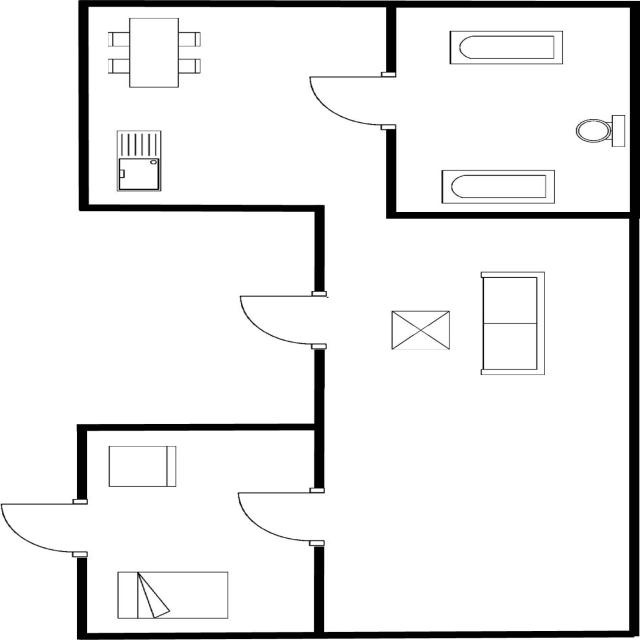bed: (111, 567, 233, 621)
coffee_table: (386, 307, 454, 352)
dining_table: (102, 14, 207, 92)
large_sink: (570, 111, 627, 148)
large_sofa: (475, 268, 549, 379)
sink: (111, 125, 167, 193)
small_sofa: (104, 443, 180, 490)
tub: (436, 167, 558, 206), (445, 28, 568, 66)
